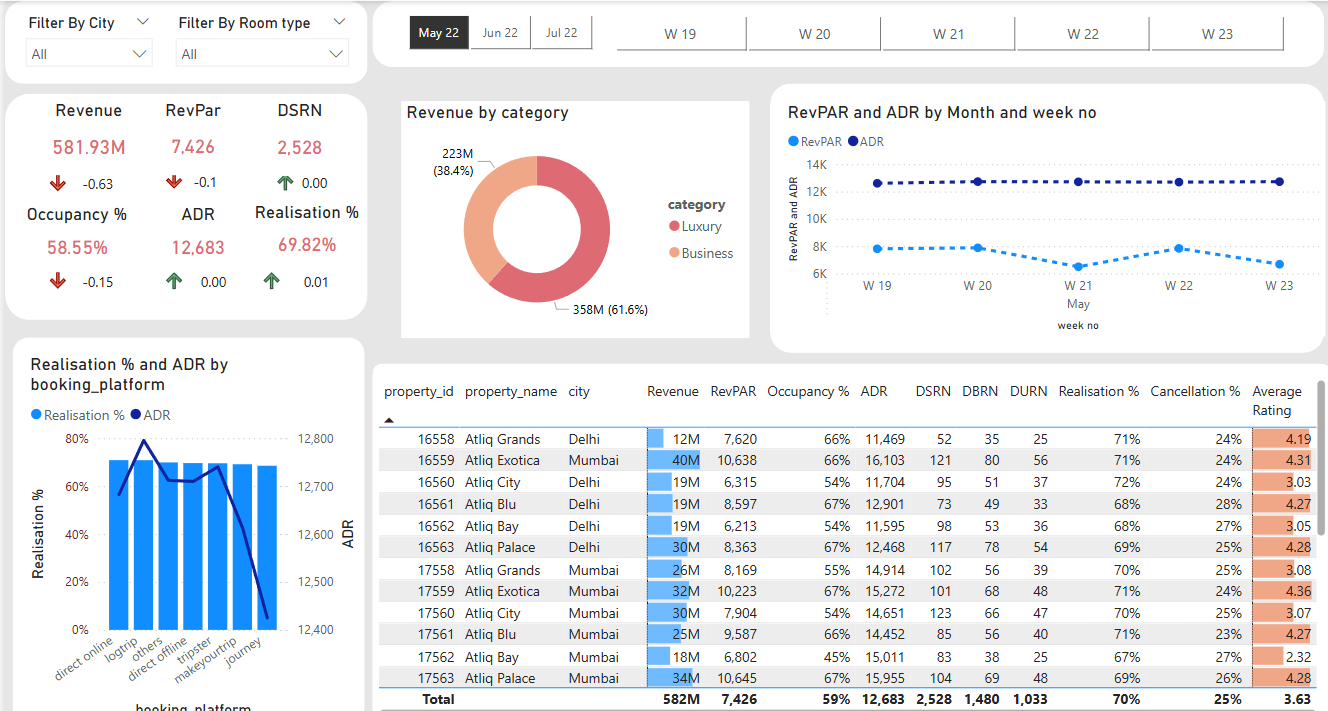

What the dashboard file says about the page in this screenshot:
{"tool":"powerbi","page":{"name":"Page 1","canvas":[1280,720],"ordinal":0},"visuals":[{"type":"shape","box":[355,350,925,347.5],"z":0},{"type":"shape","box":[7.5,325,340,372.5],"z":1000},{"type":"shape","box":[738.8,80,535,260],"z":2000},{"type":"shape","box":[355,0,918.8,63.8],"z":4000},{"type":"shape","box":[0,88.8,350,218.8],"z":5000},{"type":"shape","box":[0,0,350,80],"z":6000},{"type":"tableEx","fields":{"Values":["New_measures.Revenue WoW change %"]},"box":[31.2,140,92.5,52.5],"z":7000},{"type":"tableEx","fields":{"Values":["New_measures.Occupancy WoW change %"]},"box":[31.2,233.8,92.5,60],"z":8000},{"type":"tableEx","fields":{"Values":["Dim_hotels.property_id","Dim_hotels.property_name","Dim_hotels.city","New_measures.Revenue","New_measures.RevPAR","New_measures.Occupancy %","New_measures.ADR","New_measures.DSRN","New_measures.DBRN","New_measures.DURN","New_measures.Realisation %","New_measures.Cancellation %"]},"box":[355,361.2,925,336.2],"z":9000},{"type":"slicer","fields":{"Values":["Dim_hotels.city"]},"box":[10,7.5,142.5,65],"z":10000},{"type":"slicer","fields":{"Values":["Dim_rooms.room_class"]},"box":[155,7.5,187.5,65],"z":11000},{"type":"donutChart","fields":{"Y":["New_measures.Revenue"],"Category":["Dim_hotels.category"]},"box":[382.5,96.2,336.2,228.8],"z":12000},{"type":"card","title":"Revenue","fields":{"Values":["New_measures.Revenue"]},"box":[10,95,142.5,72.5],"z":13000},{"type":"slicer","fields":{"Values":["Dim_date.week no"]},"box":[562.5,8.8,696.2,46.2],"z":14000},{"type":"tableEx","fields":{"Values":["New_measures.\"Revpar WoW change %"]},"box":[143.8,137.5,81.2,51.2],"z":15000},{"type":"card","title":"RevPar","fields":{"Values":["New_measures.RevPAR"]},"box":[130,95,102.5,72.5],"z":16000},{"type":"tableEx","fields":{"Values":["New_measures.\"DSRN WoW change %"]},"box":[251.2,138.8,80,58.8],"z":17000},{"type":"tableEx","fields":{"Values":["New_measures.\"Realisation WoW change %"]},"box":[237.5,233.8,95,55],"z":18000},{"type":"tableEx","fields":{"Values":["New_measures.ADR WoW change %"]},"box":[143.8,233.8,83.8,58.8],"z":19000},{"type":"card","title":"Realisation %","fields":{"Values":["New_measures.Realisation %"]},"box":[235,192.5,112.5,66.2],"z":20000},{"type":"lineChart","fields":{"Category":["Dim_date.mmm yy.Variation.Date Hierarchy.Month","Dim_date.week no"],"Y":["New_measures.RevPAR","New_measures.ADR"]},"box":[750,96.2,523.8,227.5],"z":21000},{"type":"lineStackedColumnComboChart","fields":{"Category":["fact_bookings.booking_platform"],"Y":["New_measures.Realisation %"],"Y2":["New_measures.ADR"]},"box":[18.8,340,325,357.5],"z":22000},{"type":"card","title":"ADR","fields":{"Values":["New_measures.ADR"]},"box":[135,195,102.5,66.2],"z":23000},{"type":"card","title":"Occupancy %","fields":{"Values":["New_measures.Occupancy %"]},"box":[10,195,120,66.2],"z":24000},{"type":"card","title":"DSRN","fields":{"Values":["New_measures.DSRN"]},"box":[237.5,95,93.8,73.8],"z":25000},{"type":"slicer","fields":{"Values":["Dim_date.mmm yy"]},"box":[363.8,7.5,226.2,46.2],"z":26000}]}

Visuals, with their boxes on the page's 1280x720 design canvas (x1, y1, x2, y2). These are canvas units, not pixel positions in the 1328x711 screenshot, which may show the page scaled, cropped or inside an application window:
shape: BBox(355, 350, 1280, 698)
shape: BBox(8, 325, 348, 698)
shape: BBox(739, 80, 1274, 340)
shape: BBox(355, 0, 1274, 64)
shape: BBox(0, 89, 350, 308)
shape: BBox(0, 0, 350, 80)
tableEx - New_measures.Revenue WoW change %: BBox(31, 140, 124, 192)
tableEx - New_measures.Occupancy WoW change %: BBox(31, 234, 124, 294)
tableEx - Dim_hotels.property_id x Dim_hotels.property_name: BBox(355, 361, 1280, 697)
slicer - Dim_hotels.city: BBox(10, 8, 152, 72)
slicer - Dim_rooms.room_class: BBox(155, 8, 342, 72)
donutChart - New_measures.Revenue x Dim_hotels.category: BBox(382, 96, 719, 325)
"Revenue" card: BBox(10, 95, 152, 168)
slicer - Dim_date.week no: BBox(562, 9, 1259, 55)
tableEx - New_measures."Revpar WoW change %: BBox(144, 138, 225, 189)
"RevPar" card: BBox(130, 95, 232, 168)
tableEx - New_measures."DSRN WoW change %: BBox(251, 139, 331, 198)
tableEx - New_measures."Realisation WoW change %: BBox(238, 234, 332, 289)
tableEx - New_measures.ADR WoW change %: BBox(144, 234, 228, 293)
"Realisation %" card: BBox(235, 192, 348, 259)
lineChart - Dim_date.mmm yy.Variation.Date Hierarchy.Month x Dim_date.week no: BBox(750, 96, 1274, 324)
lineStackedColumnComboChart - fact_bookings.booking_platform x New_measures.Realisation %: BBox(19, 340, 344, 698)
"ADR" card: BBox(135, 195, 238, 261)
"Occupancy %" card: BBox(10, 195, 130, 261)
"DSRN" card: BBox(238, 95, 331, 169)
slicer - Dim_date.mmm yy: BBox(364, 8, 590, 54)
